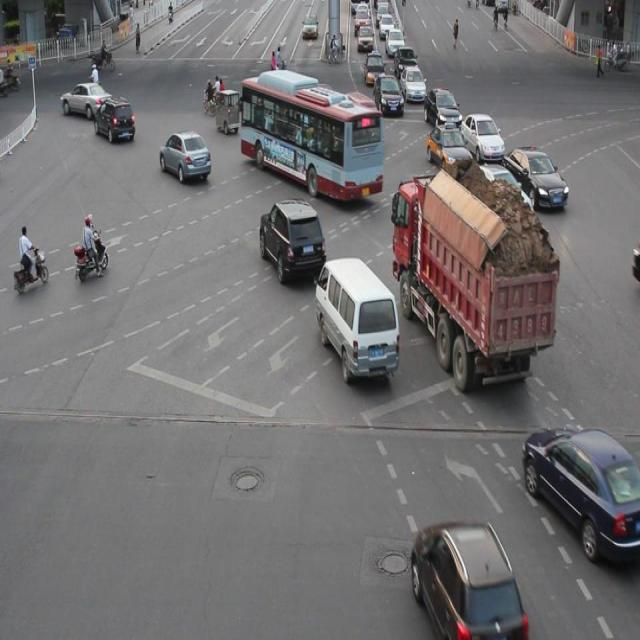bus: (393, 180, 554, 384)
car: (521, 424, 640, 559), (411, 519, 526, 640), (260, 198, 326, 284), (505, 146, 567, 211), (474, 161, 532, 222), (160, 129, 211, 183), (459, 110, 502, 160), (426, 123, 470, 169), (95, 96, 136, 142), (423, 87, 460, 128)
truck: (314, 256, 398, 376), (478, 206, 530, 269)
van: (239, 76, 382, 198)
